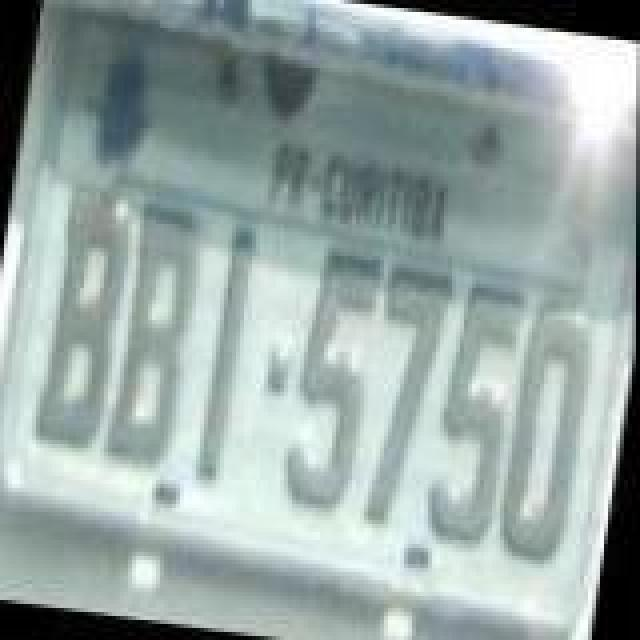1: (194, 226, 262, 486)
5: (276, 244, 388, 516), (422, 278, 530, 554)
7: (350, 264, 458, 536)
B: (28, 176, 140, 456), (100, 196, 212, 476)
O: (492, 298, 600, 566)
